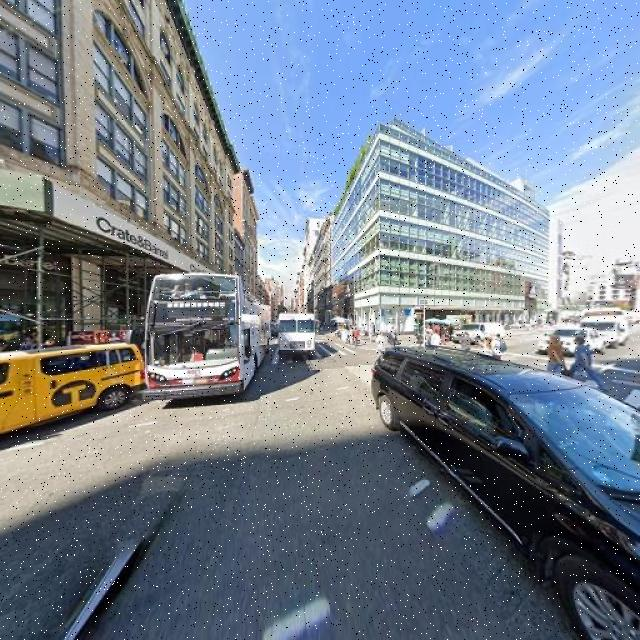Building: (1, 1, 232, 350), (333, 123, 548, 328)
